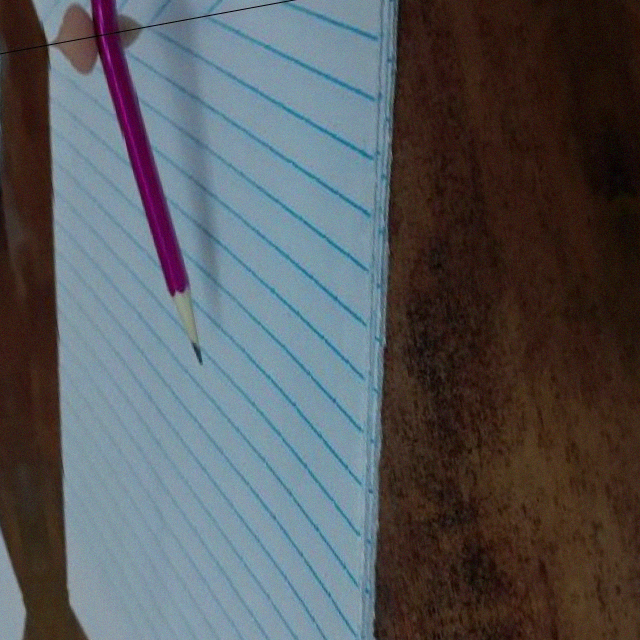pencil: (164, 287, 211, 371)
